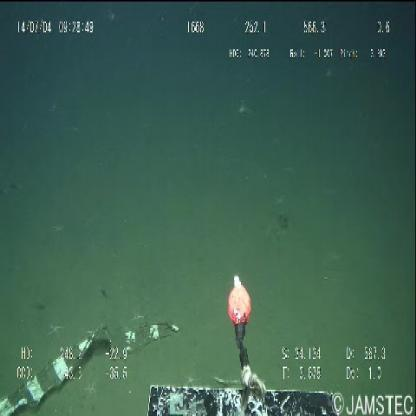Rác: (0, 322, 181, 414)
